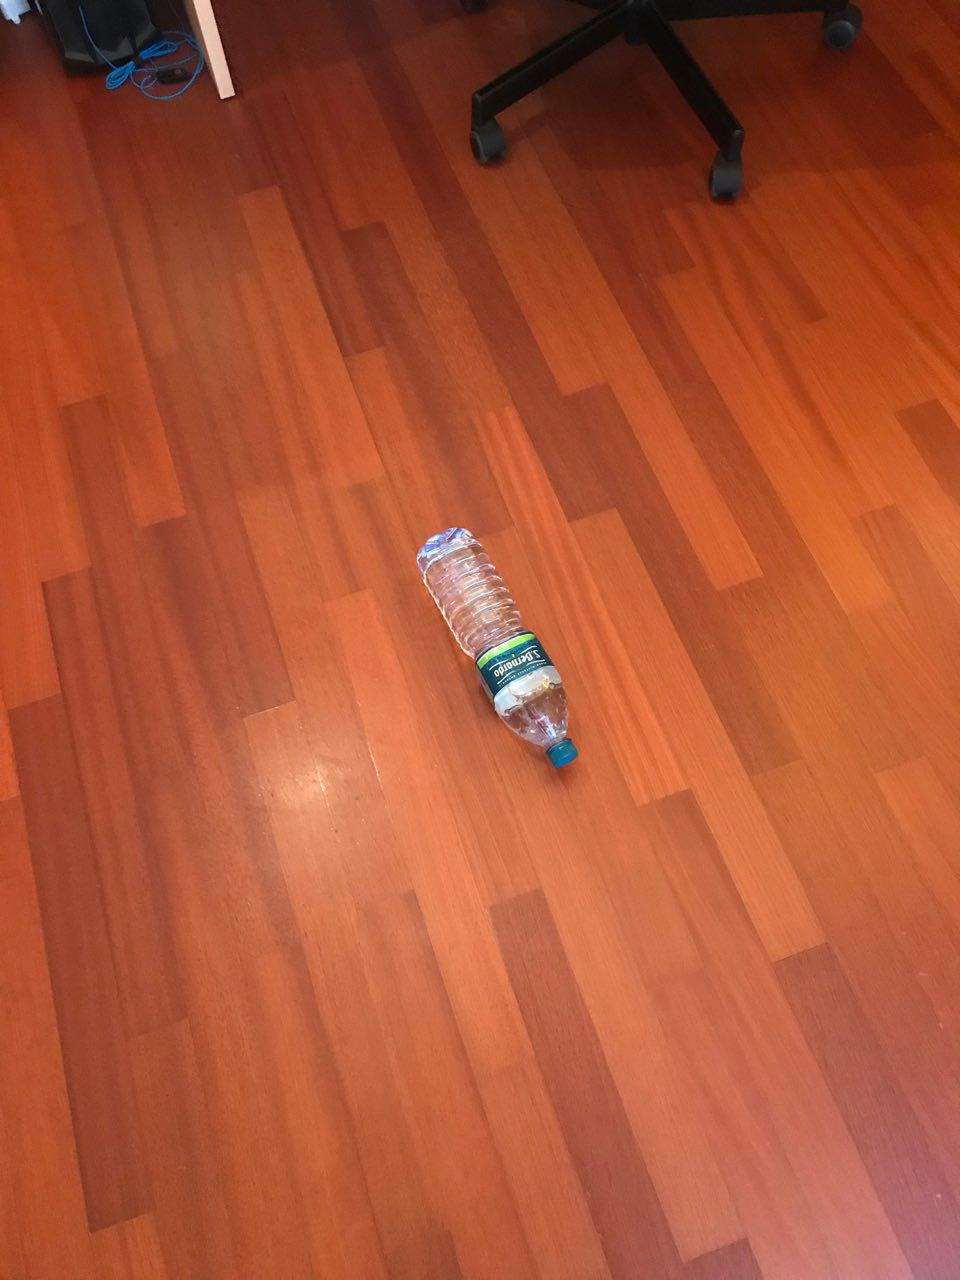san_bernardo: (415, 525, 580, 770)
